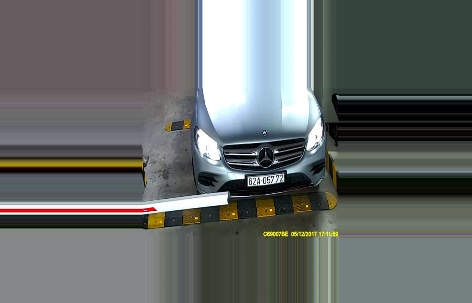plate: (245, 172, 285, 186)
